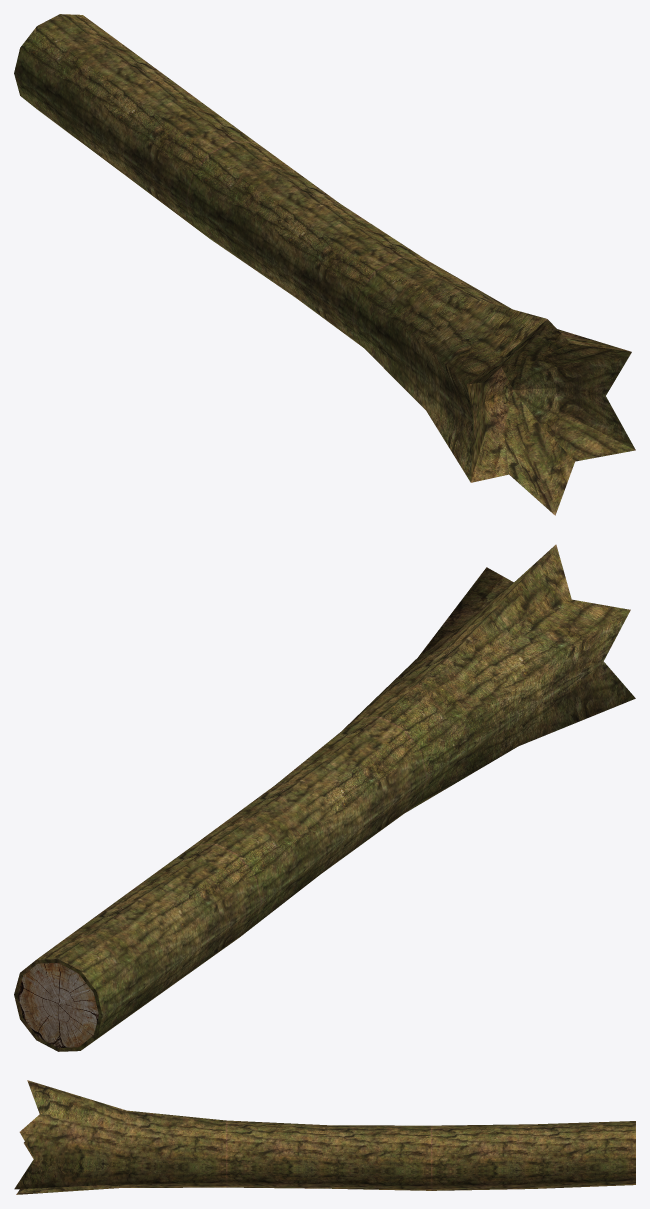
Rendered from Log02.FBX.
3 views of the same model, one above another, from view 1: azimuth 30°, elevation 25°; view 2: azimuth 150°, elevation 25°; view 3: azimuth 270°, elevation 25° (orthographic). The views are drawn at different scales.
Parts seen in each view (by area): view 1: Log02; view 2: Log02; view 3: Log02.
Boxes of the visible parts, left/top/right/bottom form: Log02: left=14, top=14, right=635, bottom=515; Log02: left=14, top=544, right=635, bottom=1051; Log02: left=14, top=1080, right=635, bottom=1194.
Bounding box in the file's own units: 160 × 183 × 897.
